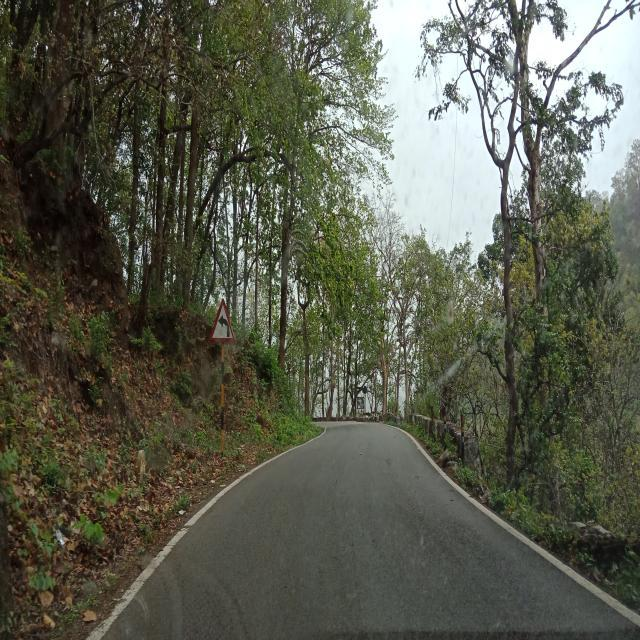left hand curve: (210, 298, 236, 342)
